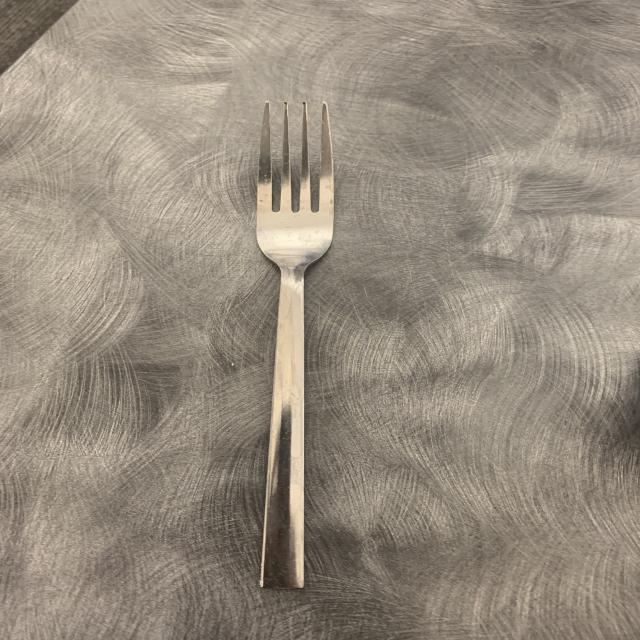fork: (232, 99, 358, 604)
